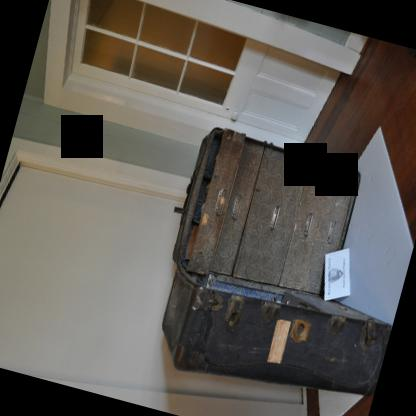suitcase: (157, 260, 390, 394)
